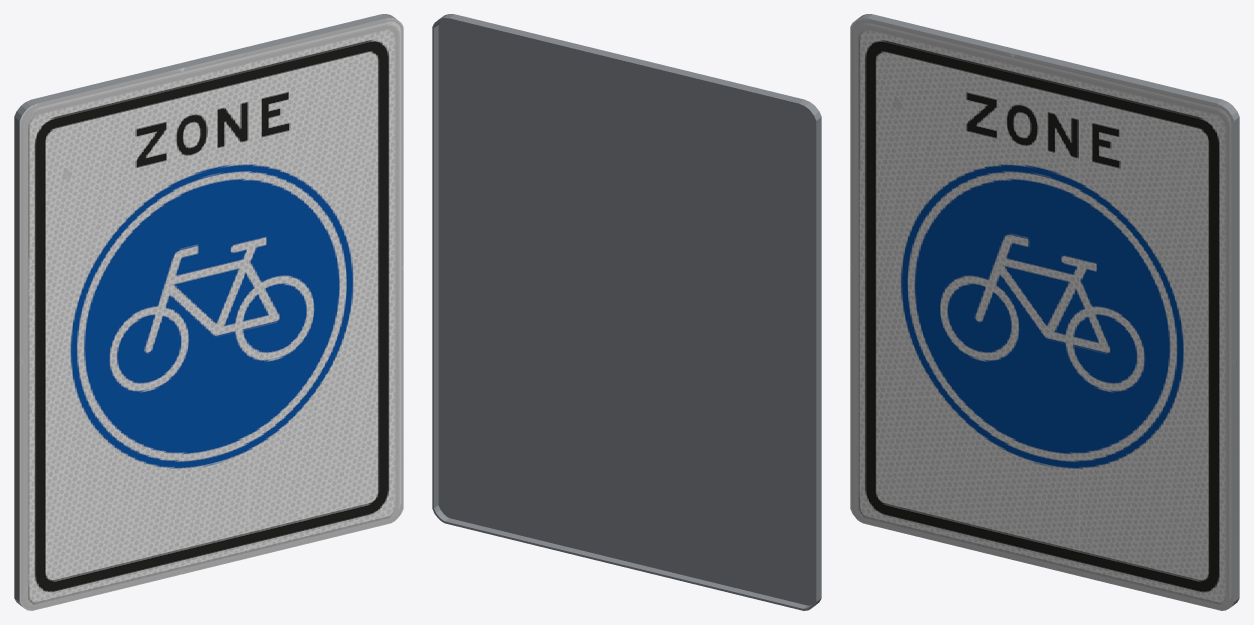
The picture shows the model from 3 angles, left to right: view 1: azimuth 30°, elevation 25°; view 2: azimuth 150°, elevation 25°; view 3: azimuth 330°, elevation 25°; orthographic projection.
Visible parts, largest first — view 1: cat_3419c77133085796; view 2: cat_3419c77133085796; view 3: cat_3419c77133085796.
Boxes of the visible parts, x1,y1,x2,y2 form: cat_3419c77133085796: [14, 14, 403, 610]; cat_3419c77133085796: [432, 14, 821, 610]; cat_3419c77133085796: [850, 14, 1239, 610].
Bounding box in the file's own units: 0.6 × 0.015 × 0.7558.
Materials: 2 (1 with a texture image).
